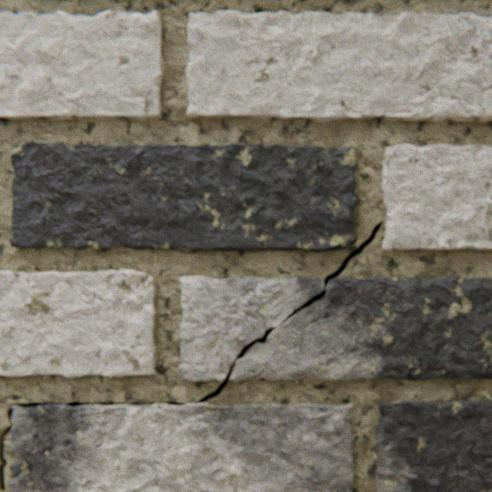brick: (11, 142, 356, 252), (186, 12, 491, 122), (9, 401, 354, 491), (0, 12, 164, 121), (0, 269, 156, 377), (381, 145, 491, 251), (375, 400, 491, 491)
broken_brick: (180, 276, 491, 381)
crack: (163, 327, 273, 405), (324, 222, 381, 286), (283, 290, 324, 322), (8, 401, 53, 422), (0, 424, 12, 490), (67, 401, 158, 406)
